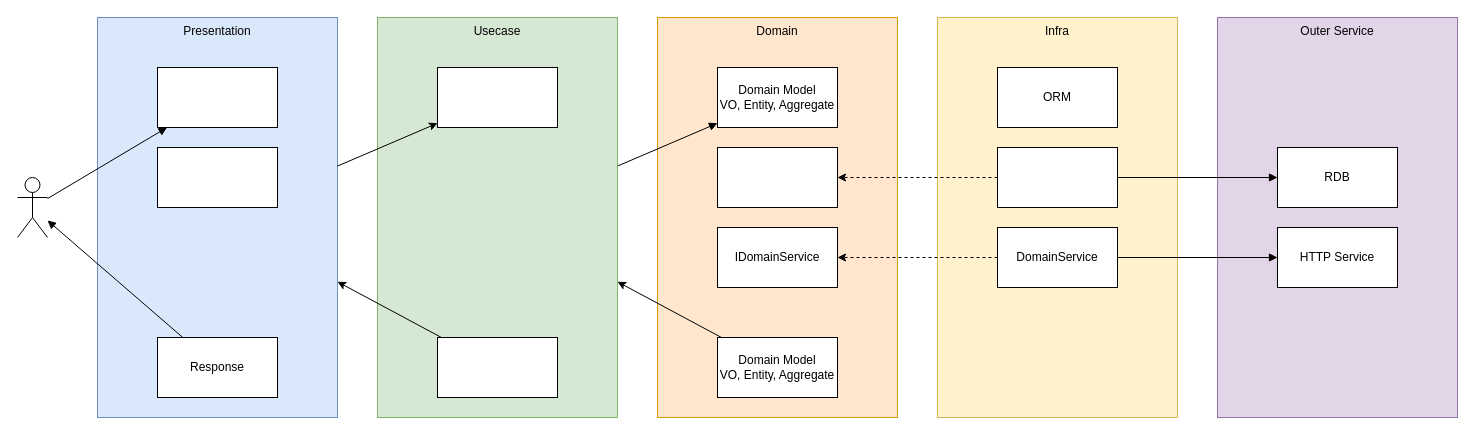
Image size: 1475x435. Some labels were removed from this diagram. The centre of each missing label's shape, as x and y in pixels:
Actor: the point at 32,207
DTO: the point at 497,367
IRepository: the point at 777,177
Middleware: the point at 217,177
Param: the point at 497,97
Repository: the point at 1057,177
Request: the point at 217,97
